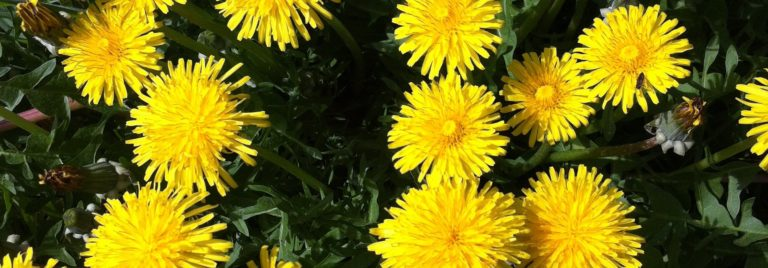dandelion: (580, 1, 693, 113), (379, 182, 507, 268), (396, 87, 507, 174), (529, 174, 627, 263), (131, 80, 238, 161), (96, 202, 213, 268), (57, 19, 159, 88), (506, 60, 581, 140), (401, 10, 495, 63), (220, 1, 328, 47), (738, 79, 768, 167)
